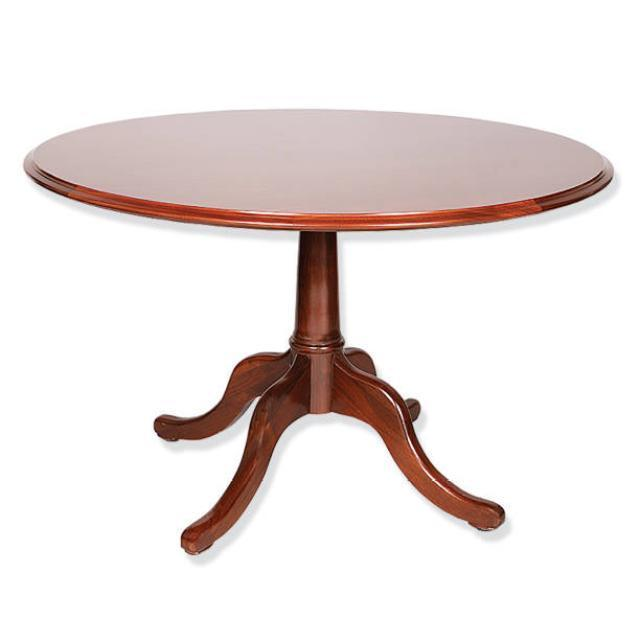table: (22, 105, 615, 556)
